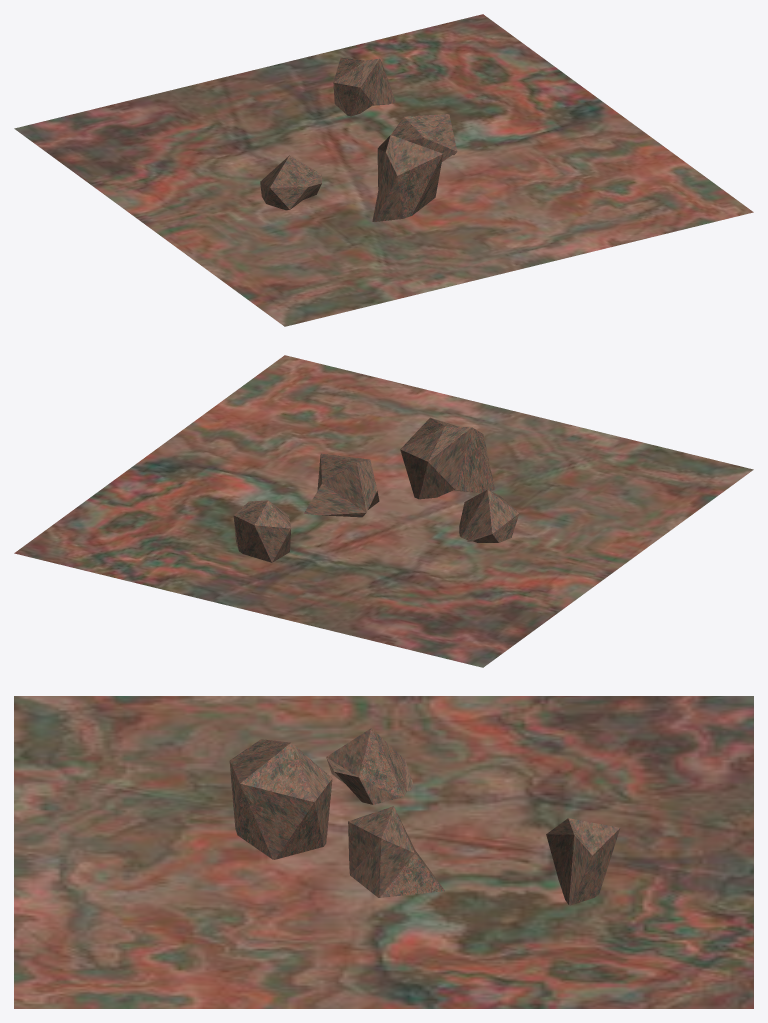
Rendered from cave_floor_decor_002.glb.
3 views of the same model, one above another, from view 1: azimuth 30°, elevation 25°; view 2: azimuth 150°, elevation 25°; view 3: azimuth 270°, elevation 25° (orthographic). The views are drawn at different scales.
Parts seen in each view (by area): view 1: cave_floor_decor.002; view 2: cave_floor_decor.002; view 3: cave_floor_decor.002.
Part boxes in pixels (x1=…): cave_floor_decor.002: x1=14, y1=14, x2=753, y2=326; cave_floor_decor.002: x1=14, y1=355, x2=753, y2=667; cave_floor_decor.002: x1=14, y1=696, x2=753, y2=1008.
Bounding box in the file's own units: 2 × 0.3406 × 2.
1 material, 1 textured.
